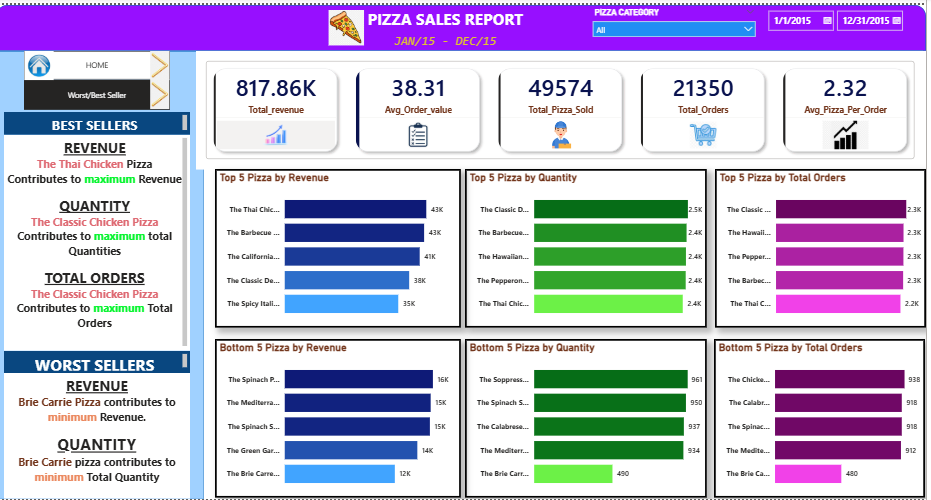

Layout of this report page (visuals, bound fields, positions):
{"tool":"powerbi","page":{"name":"Worst/Best  Seller","canvas":[1600,850],"ordinal":1},"visuals":[{"type":"shape","box":[0,78.6,357.1,771.4],"z":0},{"type":"cardVisual","fields":{"Data":["Table.Total_revenue","Table.Avg_Order_value","Table.Total_Pizza_Sold","Table.Total_Orders","Table.Avg_Pizza_Per_Order"]},"box":[344.6,78.6,1255.4,203.6],"z":1000},{"type":"shape","box":[0,0,1600,78.6],"z":2000},{"type":"textbox","box":[633.9,0,280.4,51.8],"z":3000},{"type":"textbox","box":[678.6,42.9,191.1,35.7],"z":4000},{"type":"image","box":[571.4,8.9,62.5,60.7],"z":5000},{"type":"textbox","box":[14.3,183.9,319.6,39.3],"z":6000},{"type":"textbox","box":[14.3,223.2,319.6,371.4],"z":7000},{"type":"textbox","box":[14.3,594.6,319.6,39.3],"z":8000},{"type":"textbox","box":[14.3,633.9,319.6,216.1],"z":9000},{"type":"slicer","fields":{"Values":["pizza_sales.pizza_category"]},"box":[1016.1,0,300,69.6],"z":10000},{"type":"slicer","fields":{"Values":["pizza_sales.order_date"]},"box":[1316.1,0,283.9,60.7],"z":11000},{"type":"barChart","title":"Top 5 Pizza by Revenue ","fields":{"Category":["pizza_sales.pizza_name"],"Y":["Table.Total_revenue"]},"box":[376.8,282.1,423.2,273.2],"z":12000},{"type":"barChart","title":"Bottom 5 Pizza by Revenue ","fields":{"Category":["pizza_sales.pizza_name"],"Y":["Table.Total_revenue"]},"box":[376.8,575,423.2,273.2],"z":13000},{"type":"barChart","title":"Top 5 Pizza by Quantity","fields":{"Category":["pizza_sales.pizza_name"],"Y":["Table.Total_Pizza_Sold"]},"box":[807.1,282.1,416.1,273.2],"z":14000},{"type":"pageNavigator","box":[48.2,128.6,251.8,51.8],"z":14500},{"type":"barChart","title":"Bottom 5 Pizza by Quantity","fields":{"Category":["pizza_sales.pizza_name"],"Y":["Table.Total_Pizza_Sold"]},"box":[807.1,575,416.1,273.2],"z":15000},{"type":"barChart","title":"Top 5 Pizza by Total Orders","fields":{"Category":["pizza_sales.pizza_name"],"Y":["Table.Total_Orders"]},"box":[1237.5,282.1,362.5,273.2],"z":16000},{"type":"barChart","title":"Bottom 5 Pizza by Total Orders","fields":{"Category":["pizza_sales.pizza_name"],"Y":["Table.Total_Orders"]},"box":[1235.7,575,362.5,273.2],"z":17000},{"type":"pageNavigator","box":[48.2,78.6,251.8,50],"z":18000},{"type":"image","box":[48.2,78.6,51.8,50],"z":19000},{"type":"image","box":[262.5,78.6,37.5,50],"z":20000},{"type":"image","box":[262.5,128.6,37.5,50],"z":22000}]}

Visuals, with their boxes in screenshot pixels (x1, y1, x2, y2), scaled from the page's 1600x850 canvas onto the 931x500 screenshot:
shape: 0, 46, 208, 499
cardVisual - Table.Total_revenue x Table.Avg_Order_value: 201, 46, 930, 166
shape: 0, 0, 930, 46
textbox: 369, 0, 532, 30
textbox: 395, 25, 506, 46
image: 332, 5, 369, 41
textbox: 8, 108, 194, 131
textbox: 8, 131, 194, 350
textbox: 8, 350, 194, 373
textbox: 8, 373, 194, 499
slicer - pizza_sales.pizza_category: 591, 0, 766, 41
slicer - pizza_sales.order_date: 766, 0, 930, 36
"Top 5 Pizza by Revenue " barChart: 219, 166, 466, 327
"Bottom 5 Pizza by Revenue " barChart: 219, 338, 466, 499
"Top 5 Pizza by Quantity" barChart: 470, 166, 712, 327
pageNavigator: 28, 76, 175, 106
"Bottom 5 Pizza by Quantity" barChart: 470, 338, 712, 499
"Top 5 Pizza by Total Orders" barChart: 720, 166, 930, 327
"Bottom 5 Pizza by Total Orders" barChart: 719, 338, 930, 499
pageNavigator: 28, 46, 175, 76
image: 28, 46, 58, 76
image: 153, 46, 175, 76
image: 153, 76, 175, 105
